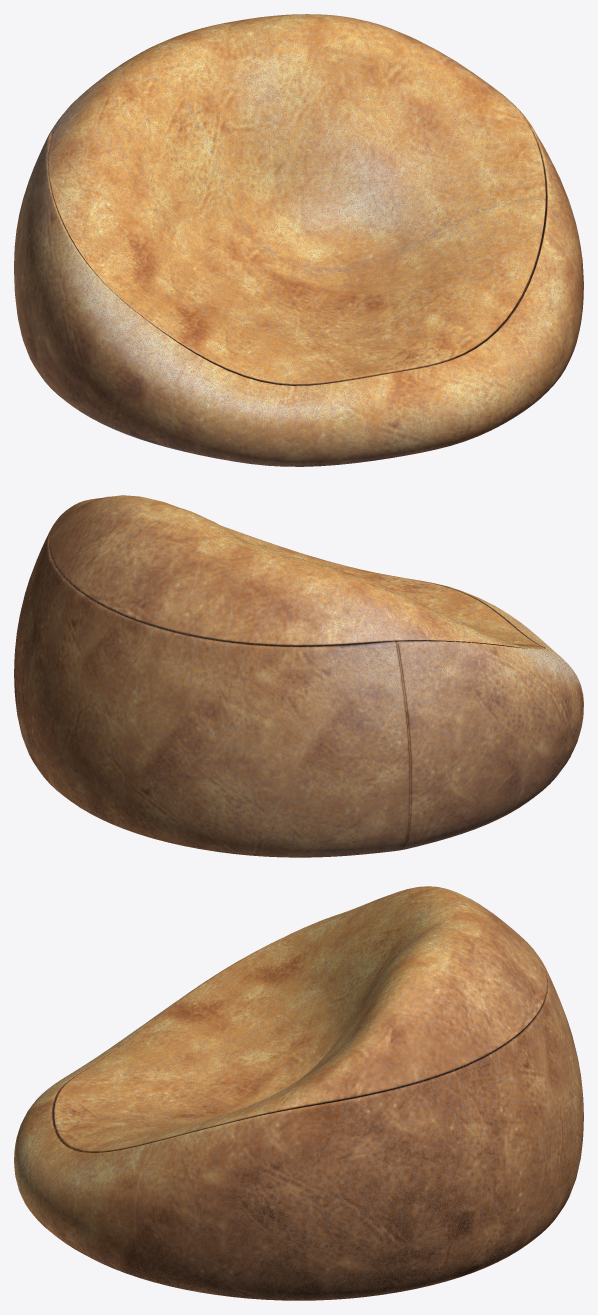
File: Puff.dae
The picture shows the model from 3 angles, top to bottom: view 1: azimuth 30°, elevation 25°; view 2: azimuth 150°, elevation 25°; view 3: azimuth 270°, elevation 25°; orthographic projection.
Visible parts, largest first — view 1: Puff.lxl; view 2: Puff.lxl; view 3: Puff.lxl.
Boxes of the visible parts, x1,y1,x2,y2 form: Puff.lxl: (14,14,583,466); Puff.lxl: (14,495,583,857); Puff.lxl: (14,886,583,1300).
Size of the model in its own units: 38.43 by 38.38 by 20.41.
Materials: 2 (1 with a texture image).
